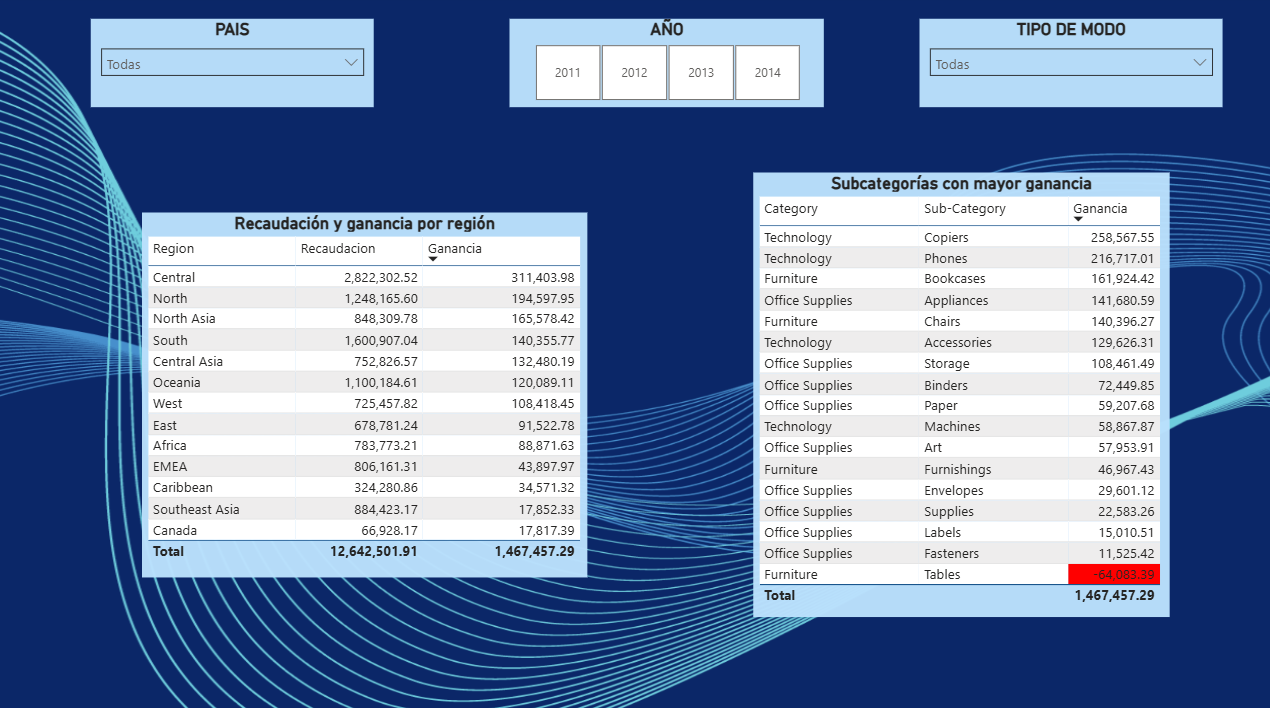

The page's visual inventory and layout, read from the dashboard file:
{"tool":"powerbi","page":{"name":"ANALISIS","canvas":[1280,720],"ordinal":1},"visuals":[{"type":"tableEx","title":"Recaudación y ganancia por región","fields":{"Values":["Global_Superstore2.Region","Global_Superstore2.recaudacion","Global_Superstore2.ganancia"]},"box":[149.1,216.7,443.5,363.3],"z":0},{"type":"tableEx","title":"Subcategorías con mayor ganancia","fields":{"Values":["Global_Superstore2.Category","Global_Superstore2.Sub-Category","Global_Superstore2.ganancia"]},"box":[757.9,176.6,414.6,442.2],"z":1000},{"type":"slicer","title":"PAIS","fields":{"Values":["Global_Superstore2.Country"]},"box":[97.7,23.8,281.9,87.7],"z":2000},{"type":"slicer","title":"AÑO","fields":{"Values":["Global_Superstore2.Order Date.Variación.Jerarquía de fechas.Año"]},"box":[514.9,23.8,313.2,87.7],"z":3000},{"type":"slicer","title":"TIPO DE MODO","fields":{"Values":["Global_Superstore2.Ship Mode"]},"box":[923.2,23.8,301.9,87.7],"z":4000}]}

Visuals, with their boxes in screenshot pixels (x1, y1, x2, y2), scaled from the page's 1280x720 canvas onto the 1270x708 screenshot:
"Recaudación y ganancia por región" tableEx: left=148, top=213, right=588, bottom=570
"Subcategorías con mayor ganancia" tableEx: left=752, top=174, right=1163, bottom=608
"PAIS" slicer: left=97, top=23, right=377, bottom=110
"AÑO" slicer: left=511, top=23, right=822, bottom=110
"TIPO DE MODO" slicer: left=916, top=23, right=1216, bottom=110
